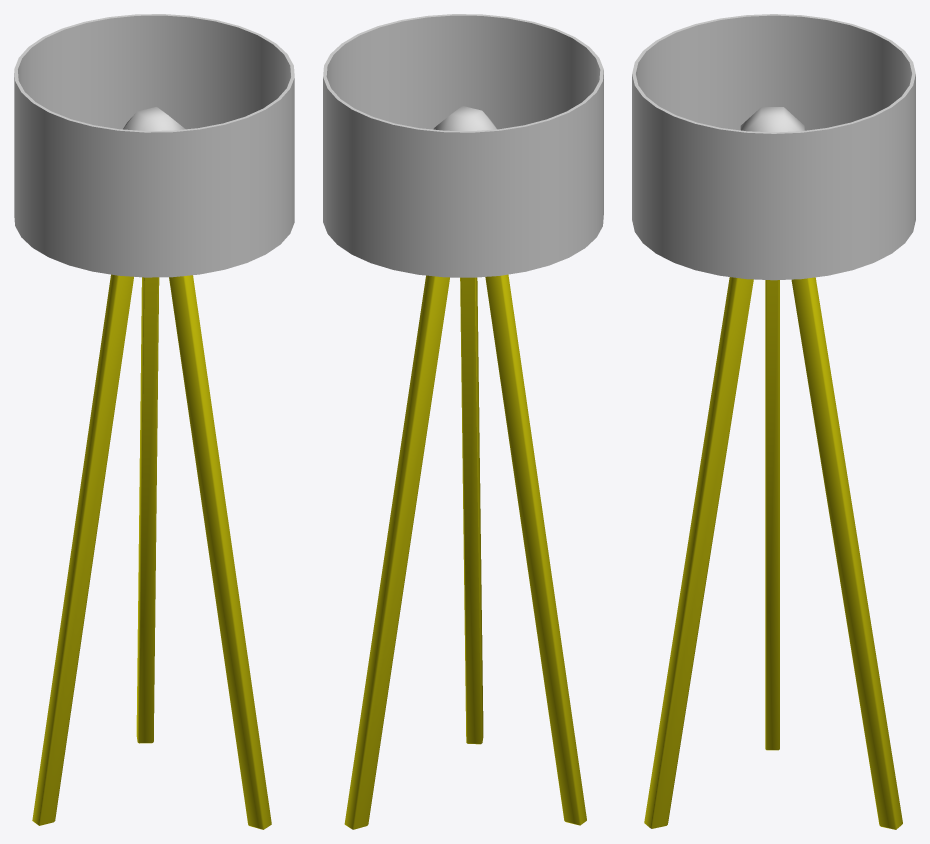
The model's file is Lanp.fbx.
The picture shows the model from 3 angles, left to right: view 1: azimuth 30°, elevation 25°; view 2: azimuth 150°, elevation 25°; view 3: azimuth 270°, elevation 25°; orthographic projection.
Visible parts, largest first — view 1: Floor Lamp; view 2: Floor Lamp; view 3: Floor Lamp.
Boxes of the visible parts, left/top/right/bottom form: Floor Lamp: left=14, top=14, right=294, bottom=829; Floor Lamp: left=323, top=14, right=603, bottom=829; Floor Lamp: left=632, top=14, right=915, bottom=829.
Size of the model in its own units: 41.07 by 116 by 41.07.
